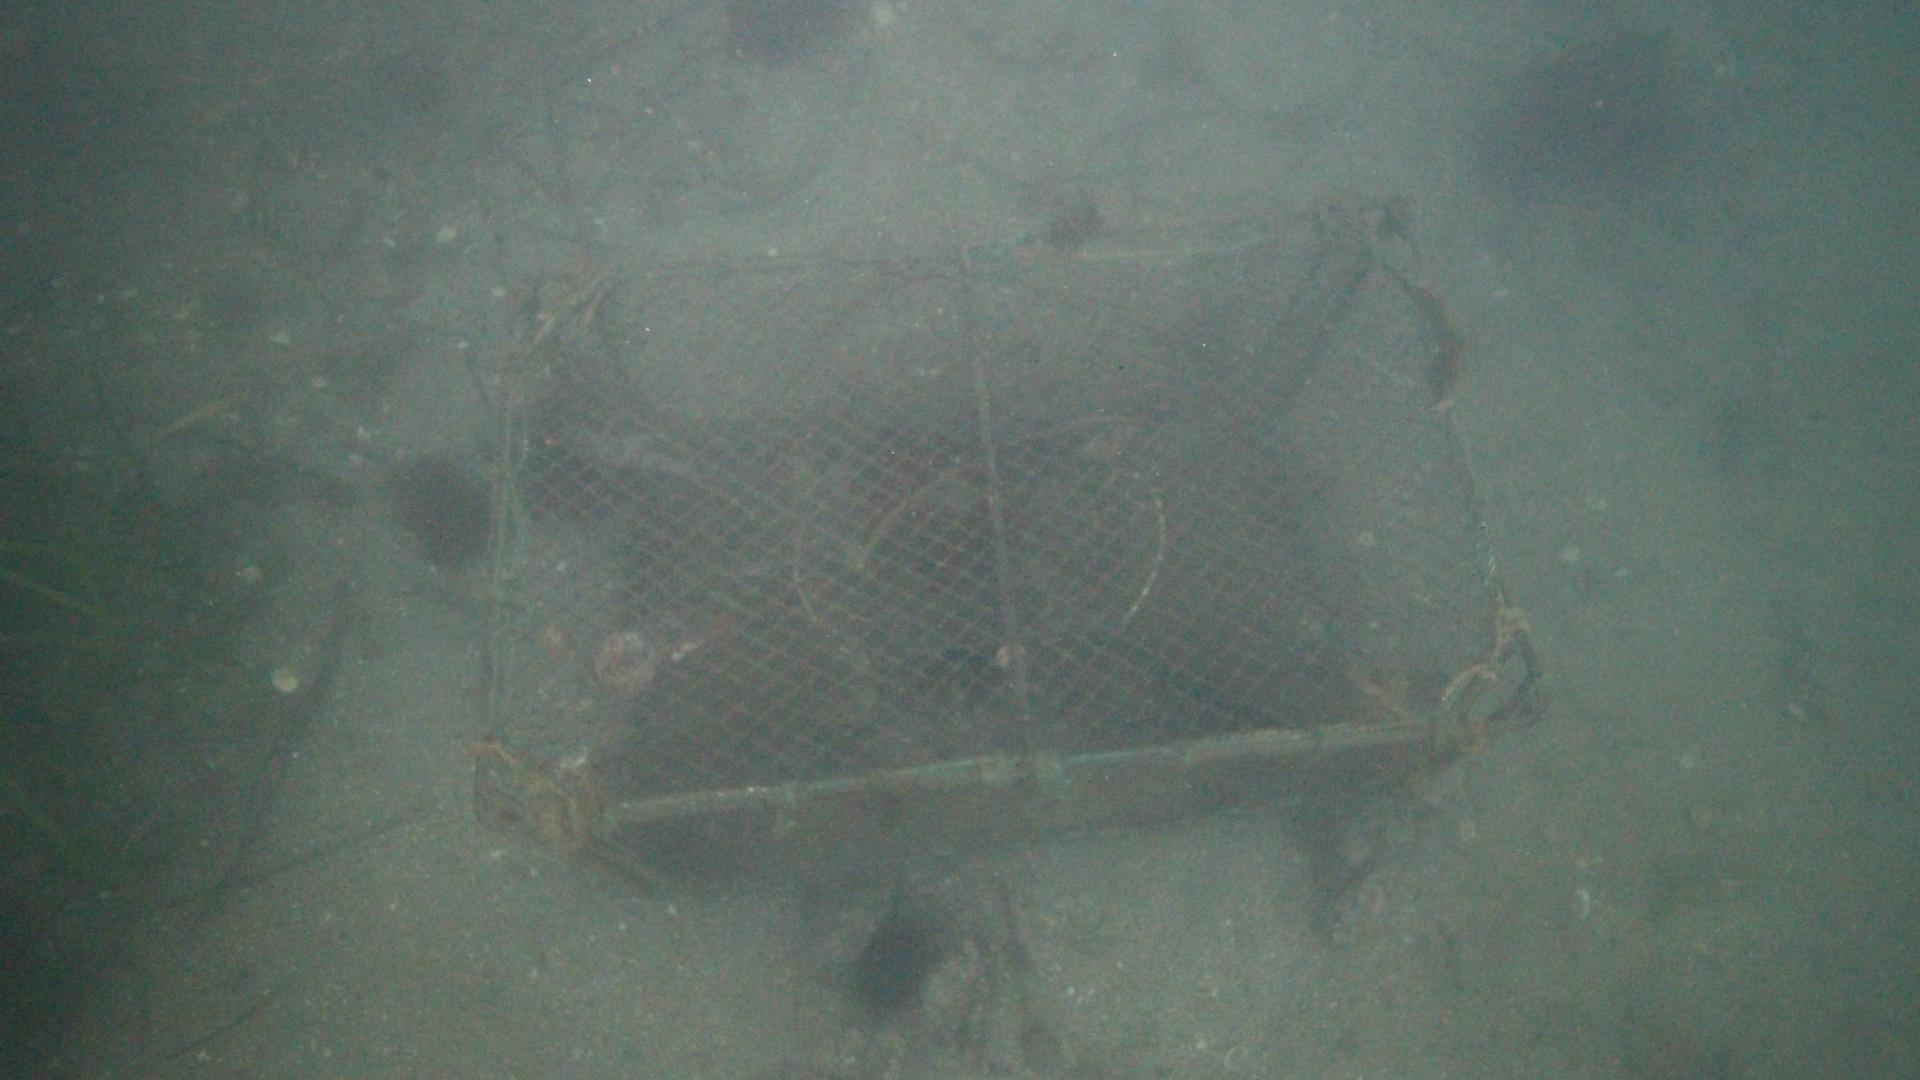rectangular fish trap: (469, 203, 1536, 907)
